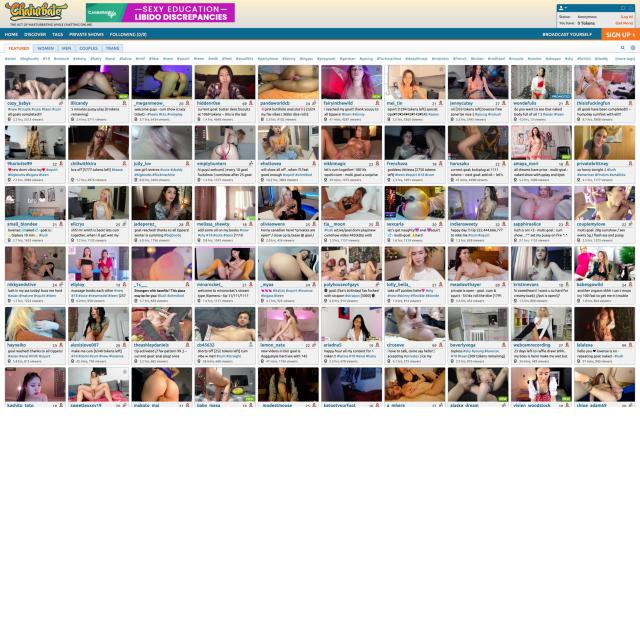logo: (0, 0, 69, 22)
navigation: (4, 30, 148, 39)
